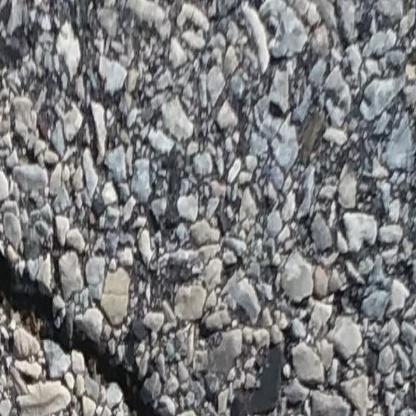Cracks: (0, 229, 191, 416)
